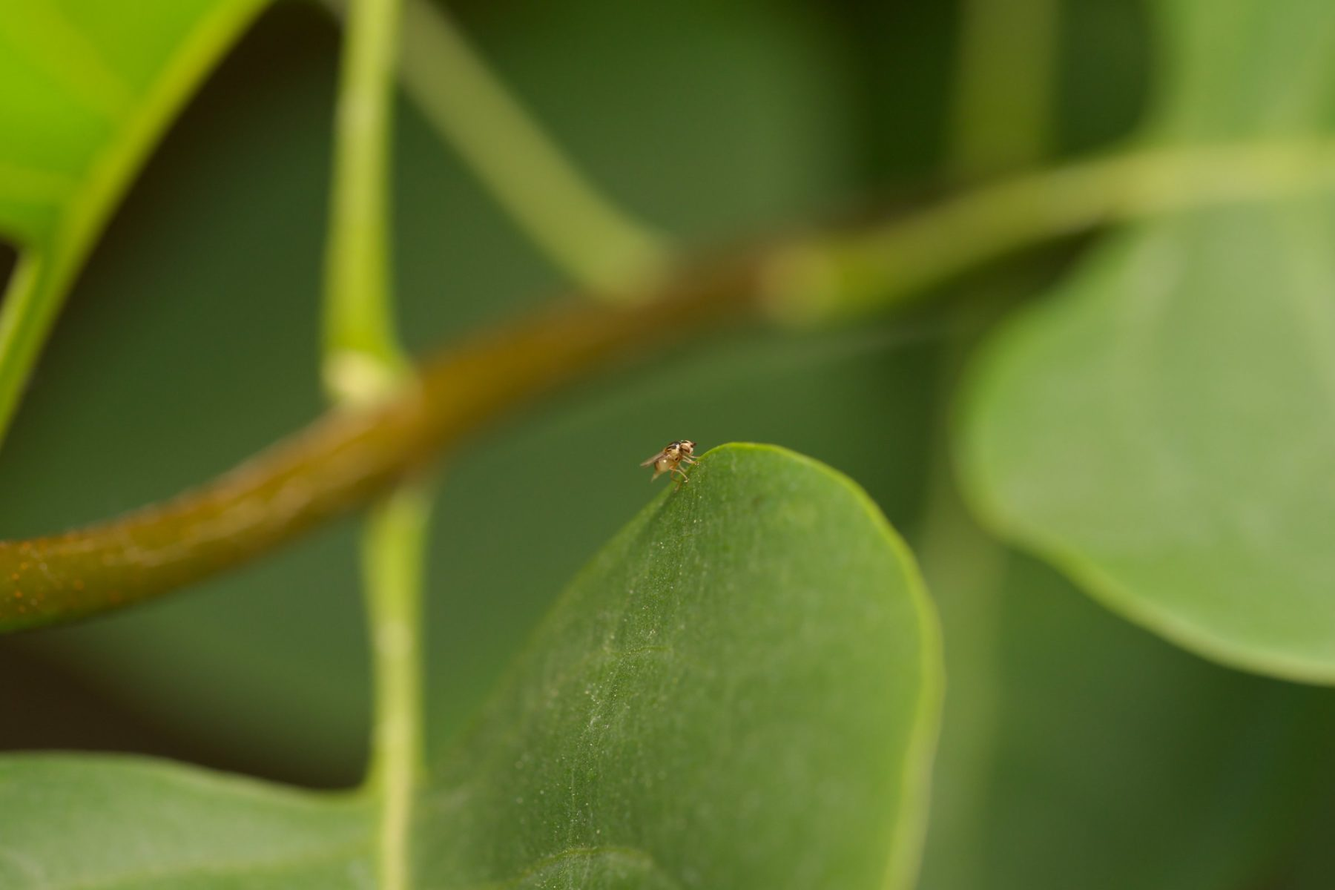Chloropidae: (639, 426, 701, 502)
